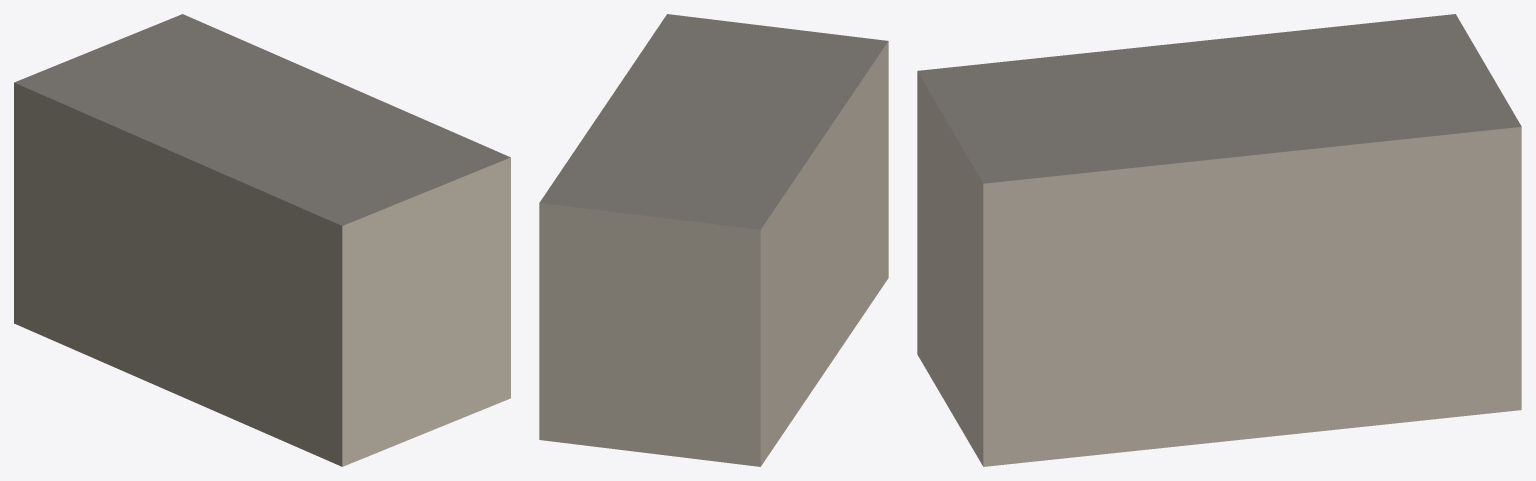
3 views of the same model, side by side, from view 1: azimuth 30°, elevation 25°; view 2: azimuth 150°, elevation 25°; view 3: azimuth 270°, elevation 25° (orthographic). The views are drawn at different scales.
Visible parts, largest first — view 1: HP-w380339830; view 2: HP-w380339830; view 3: HP-w380339830.
Part boxes in pixels (box(x1,y1,x2,y2)): HP-w380339830: box(14, 14, 510, 466); HP-w380339830: box(539, 14, 888, 466); HP-w380339830: box(917, 14, 1521, 466).
Size of the model in its own units: 23.14 by 18 by 34.83.
